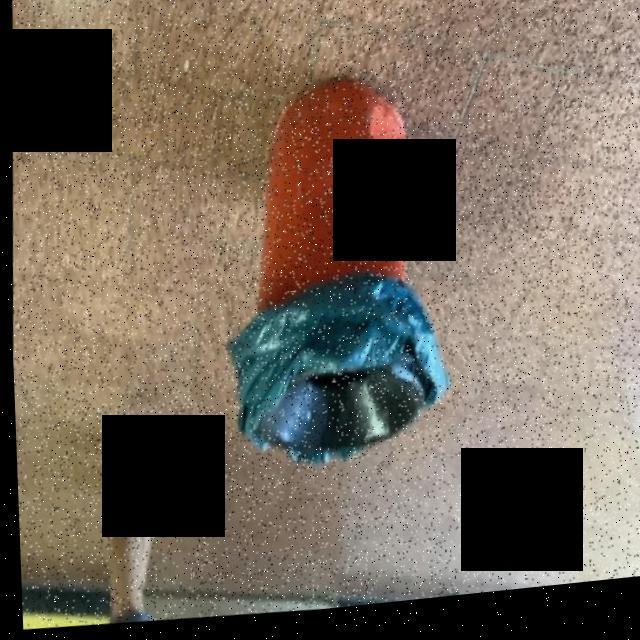bin: (176, 27, 466, 495)
